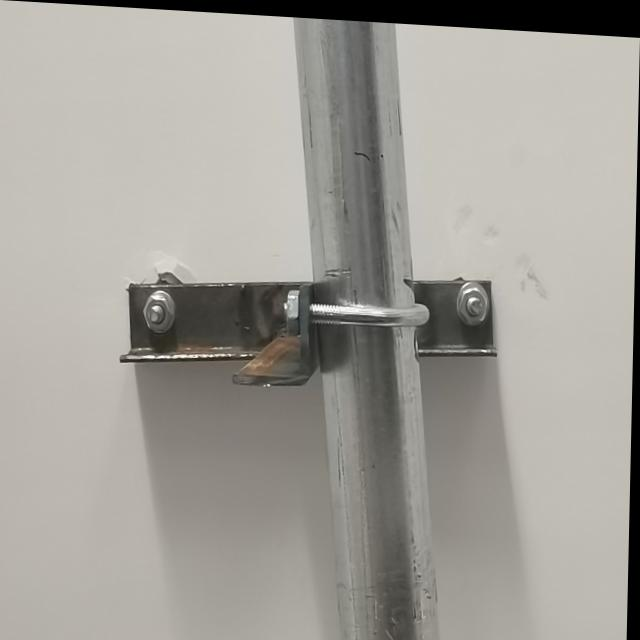Regular bolt: (459, 280, 492, 325), (146, 292, 176, 331), (286, 287, 305, 334)
